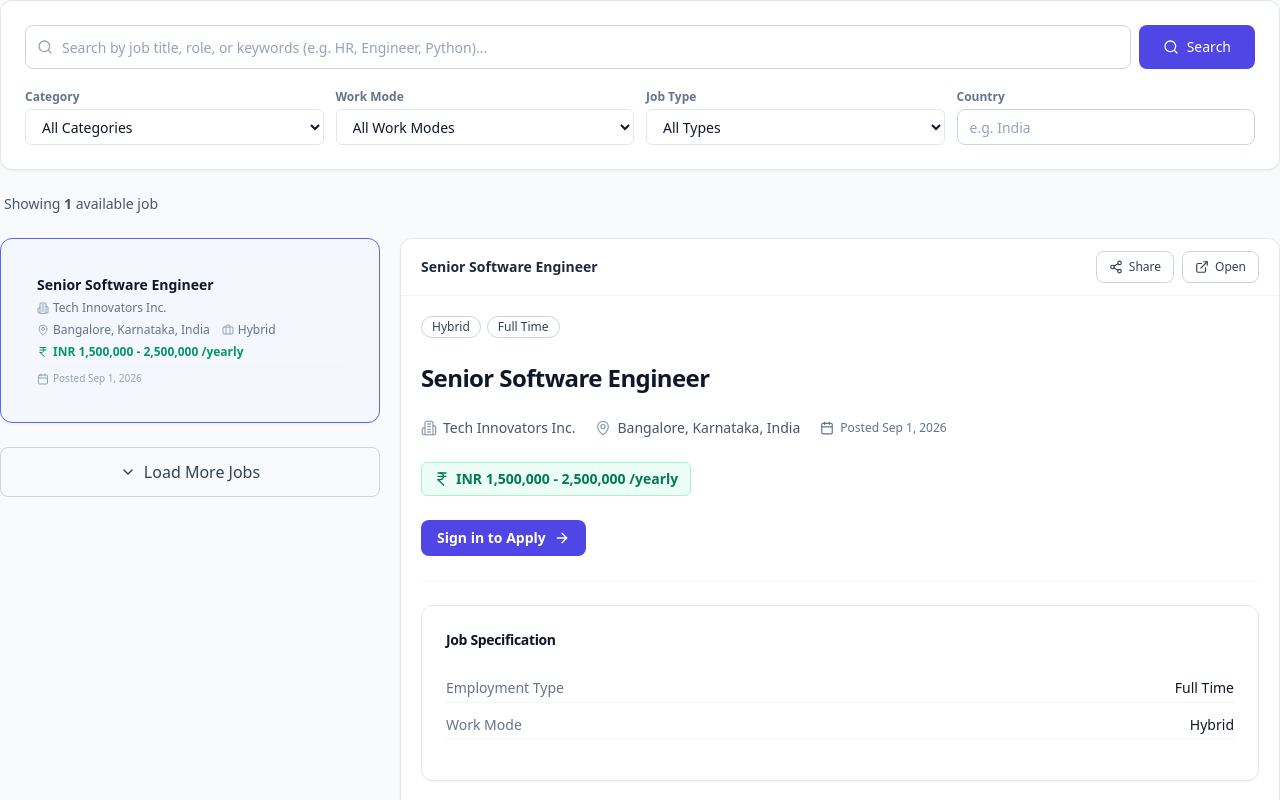
Test: Public Jobs Listing & Discovery Suite › 7. fetches next cursor page and appends items on "Load More" click
Click the button with test id "load-more-button".
click(190, 472)  # box [0,447,380,497]
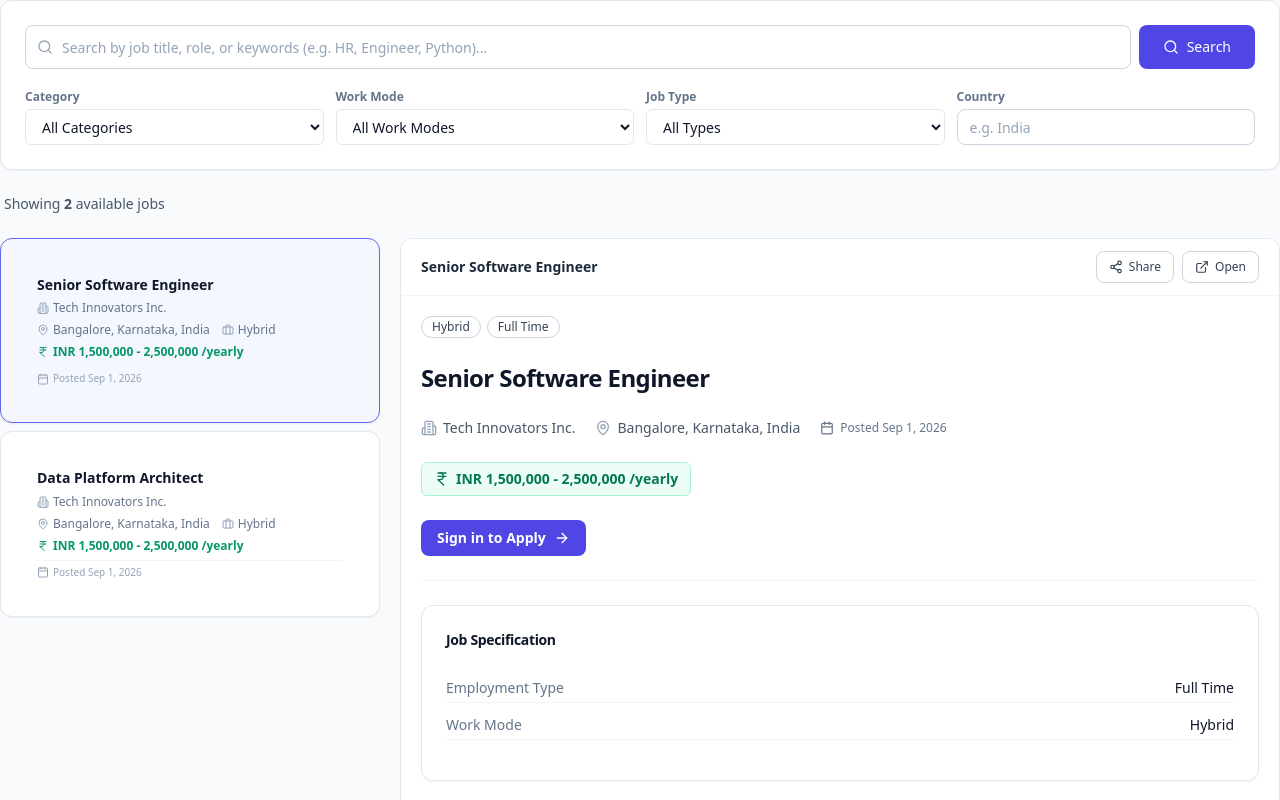
Check: the heading "Data Platform Architect" is shown, box [37,468,203,487]
